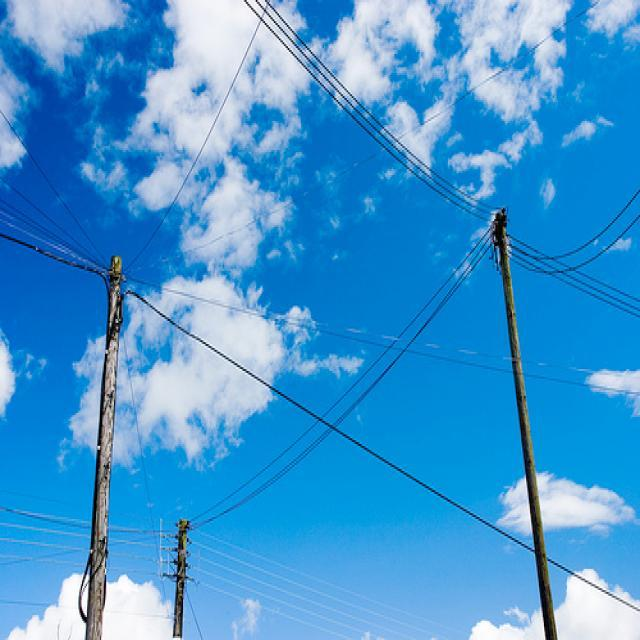pole: (489, 209, 561, 640), (87, 256, 124, 640), (173, 519, 193, 640)
wire: (115, 279, 640, 619), (132, 1, 604, 282), (188, 226, 490, 526), (188, 248, 495, 527), (124, 289, 640, 415), (241, 1, 490, 225), (251, 0, 496, 219), (263, 0, 501, 213), (122, 0, 277, 275), (0, 106, 111, 273), (121, 331, 172, 622), (508, 188, 640, 263), (506, 233, 640, 305), (508, 244, 640, 313), (507, 252, 640, 319), (0, 173, 94, 260), (505, 218, 639, 277), (0, 199, 97, 264), (0, 504, 177, 535), (0, 233, 108, 283)
